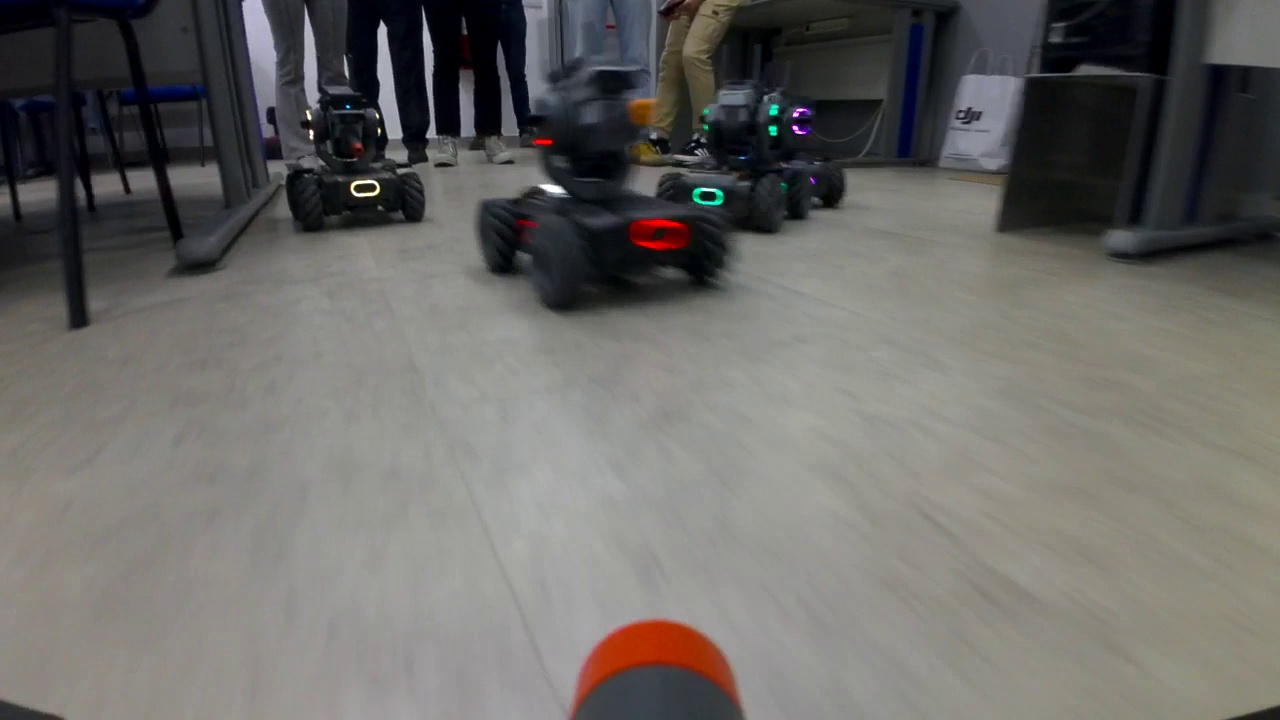robot: (477, 58, 730, 317), (652, 80, 816, 237), (286, 83, 426, 237), (790, 103, 846, 209)
